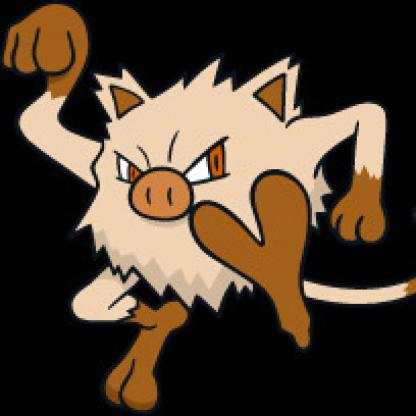Mankey: (1, 1, 415, 411)
